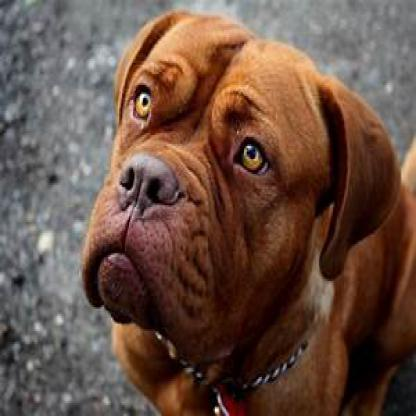dog: (81, 11, 414, 414)
